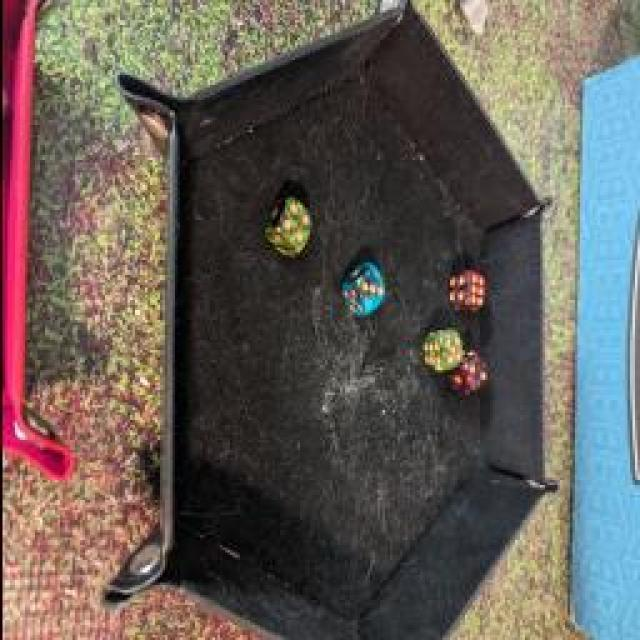dice_2: (446, 348, 492, 392)
dice_3: (338, 261, 388, 321)
dice_4: (264, 194, 314, 258)
dice_5: (422, 320, 466, 375)
dice_6: (442, 265, 486, 315)
